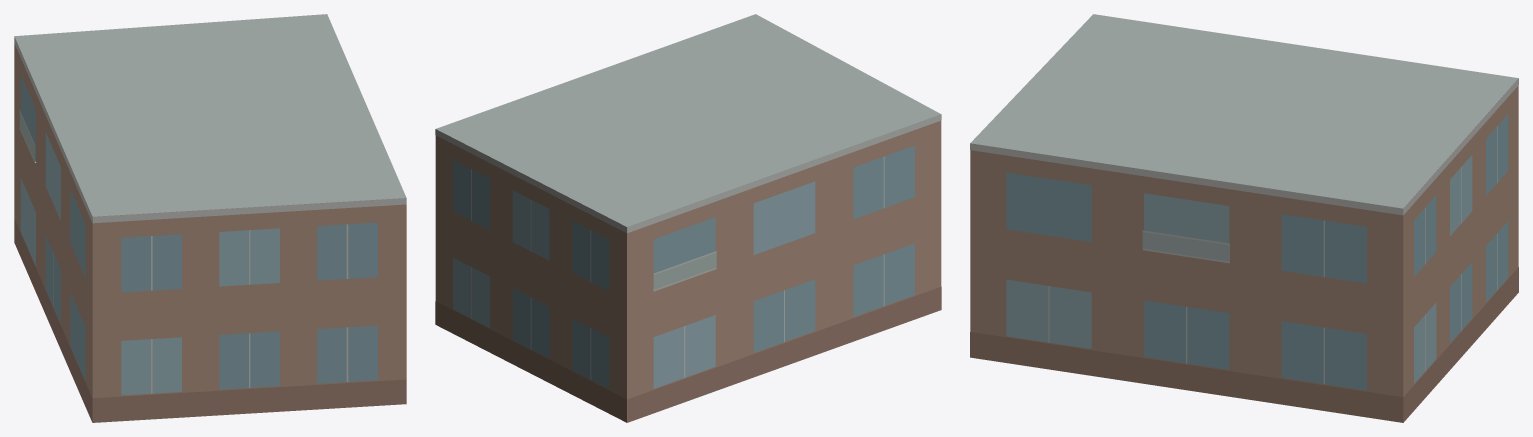
The model's file is survey-upis-32769357.glb.
3 renders of one model, left to right at view 1: azimuth 30°, elevation 25°; view 2: azimuth 150°, elevation 25°; view 3: azimuth 270°, elevation 25°, orthographic. The views are drawn at different scales.
Parts seen in each view (by area): view 1: survey-upis-32769357.tmp; view 2: survey-upis-32769357.tmp; view 3: survey-upis-32769357.tmp.
Part boxes in pixels (left/top/right/bottom): survey-upis-32769357.tmp: left=14, top=14, right=406, bottom=422; survey-upis-32769357.tmp: left=435, top=14, right=941, bottom=422; survey-upis-32769357.tmp: left=970, top=14, right=1518, bottom=422.
Size of the model in its own units: 15.01 by 7.7 by 17.88.
